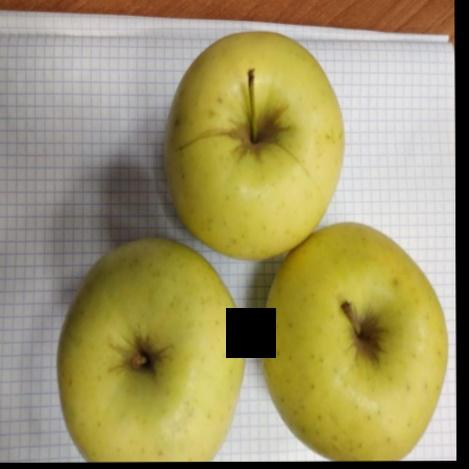green apple: (261, 220, 449, 461), (53, 237, 246, 462), (163, 29, 346, 264)
